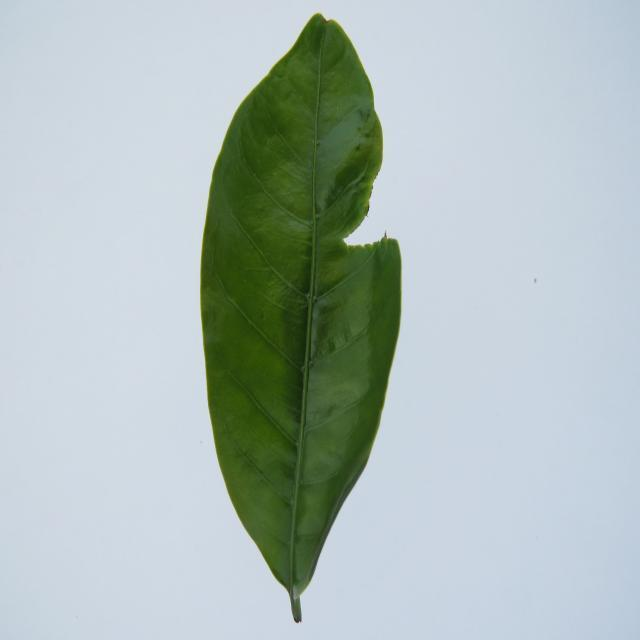DeficienciaNutricional-Boro: (201, 15, 401, 622)
